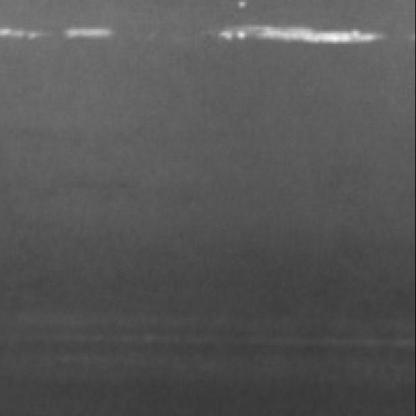scratches: (214, 14, 389, 48), (4, 16, 119, 44)
